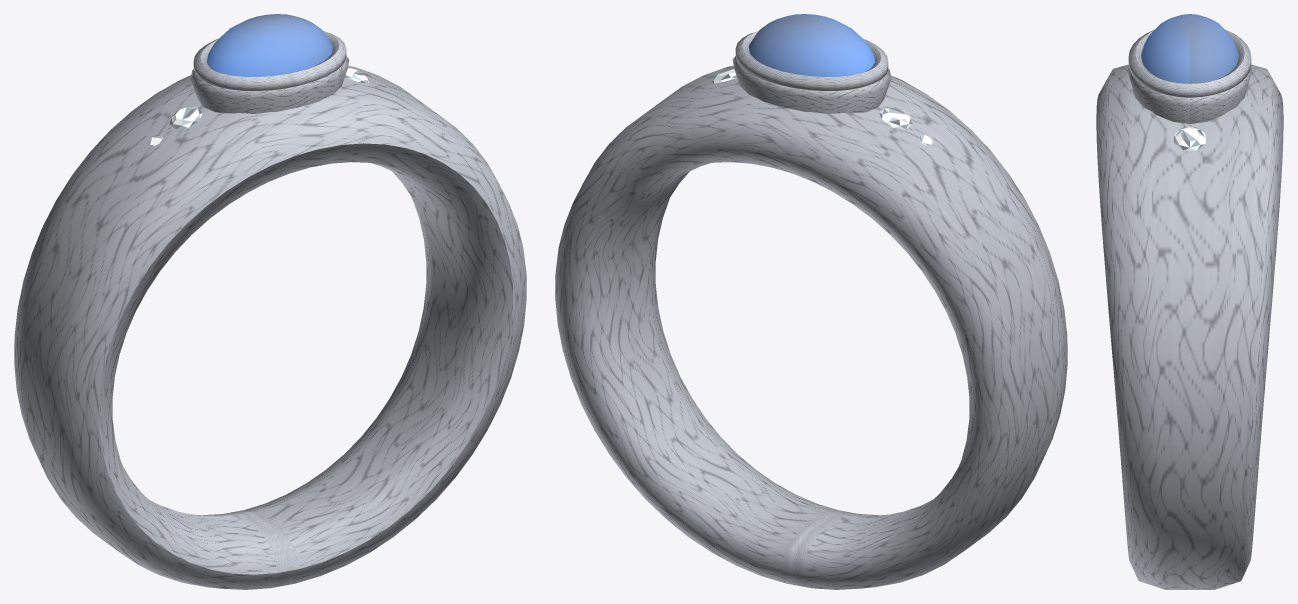
The model's file is MoonstoneRing.glb.
3 views of the same model, side by side, from view 1: azimuth 30°, elevation 25°; view 2: azimuth 150°, elevation 25°; view 3: azimuth 270°, elevation 25° (orthographic).
Parts seen in each view (by area): view 1: MoonstoneRing; view 2: MoonstoneRing; view 3: MoonstoneRing.
Part boxes in pixels (x1,y1,x2,y2): MoonstoneRing: (14,14,526,589); MoonstoneRing: (555,14,1067,589); MoonstoneRing: (1096,14,1283,589).
Size of the model in its own units: 0.5439 by 0.614 by 0.1919.
1 material, 1 textured.
